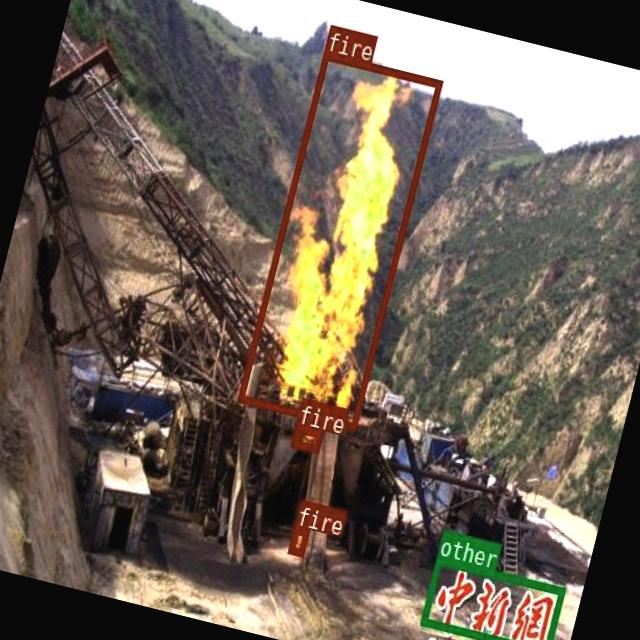fire: (236, 49, 442, 430), (290, 422, 322, 451), (287, 525, 308, 555)
